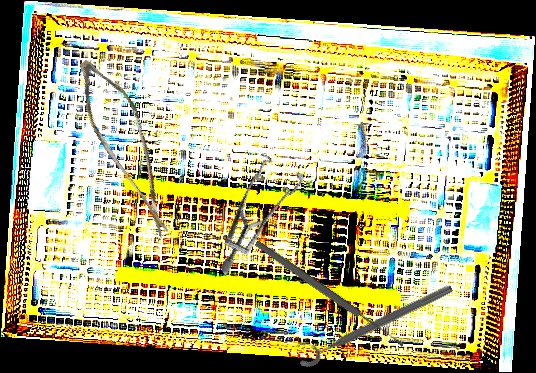Fixation Ring: (291, 271, 456, 371)
Micro Scissor: (50, 52, 209, 241)
Speculum: (183, 141, 328, 277)
Surgical Spoon: (253, 238, 406, 350)
